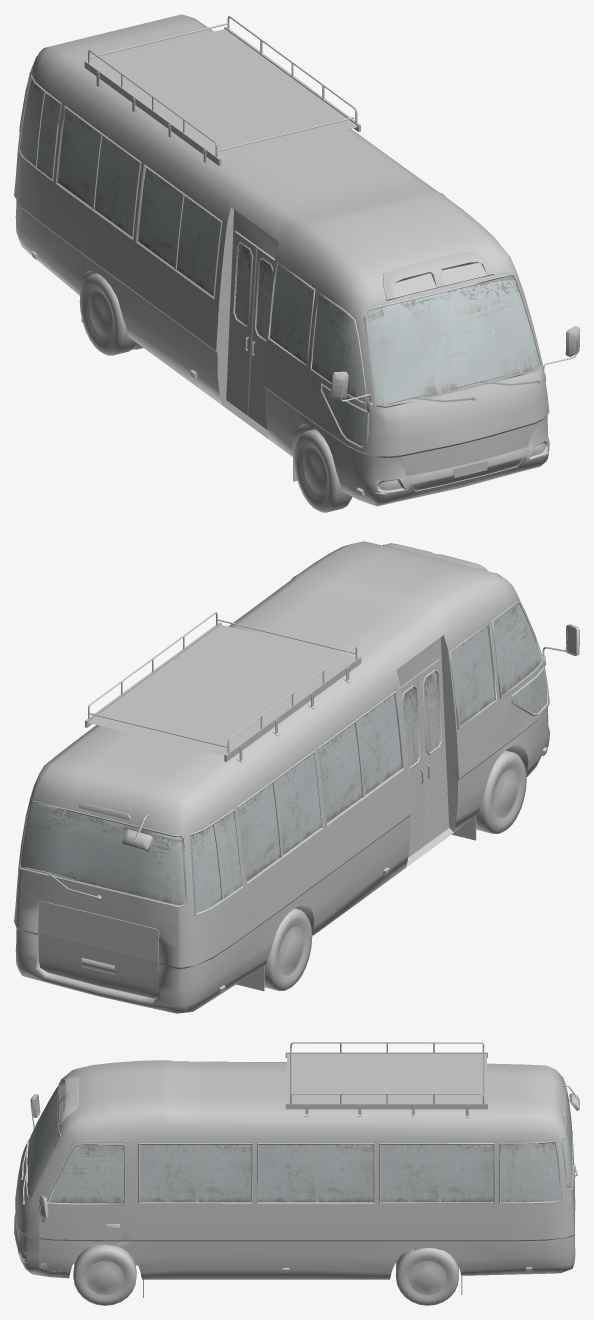
The picture shows the model from 3 angles, top to bottom: view 1: azimuth 30°, elevation 25°; view 2: azimuth 150°, elevation 25°; view 3: azimuth 270°, elevation 25°; orthographic projection. The views are drawn at different scales.
Visible parts, largest first — view 1: body, door1, lun004, lun003, door002; view 2: body, door002, lun004, door1, lun003; view 3: body, door_F, lun005, lun006.
Part boxes in pixels (left/top/right/bottom): body: left=14, top=14, right=549, bottom=506; door1: left=226, top=231, right=257, bottom=415; lun004: left=294, top=429, right=352, bottom=512; lun003: left=79, top=273, right=143, bottom=355; door002: left=247, top=247, right=274, bottom=429; body: left=14, top=541, right=579, bottom=1013; door002: left=417, top=659, right=449, bottom=842; lun004: left=476, top=750, right=526, bottom=833; door1: left=400, top=674, right=427, bottom=857; lun003: left=264, top=908, right=312, bottom=990; body: left=14, top=1042, right=579, bottom=1297; door_F: left=38, top=1141, right=127, bottom=1272; lun005: left=73, top=1244, right=136, bottom=1305; lun006: left=396, top=1248, right=458, bottom=1305.
Size of the model in its own units: 62.26 by 63.48 by 160.
